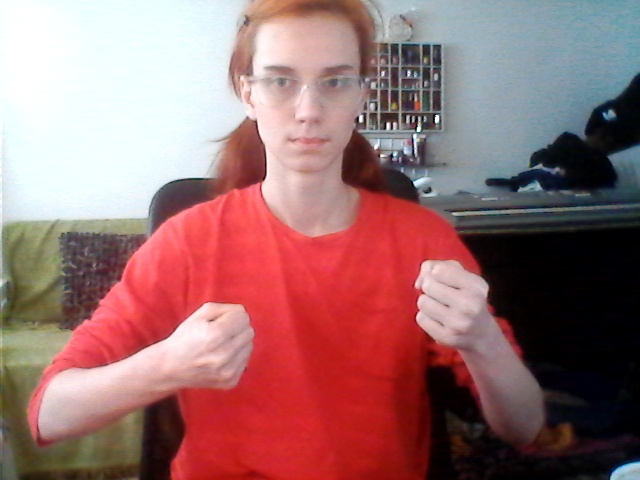auto: (181, 248, 494, 398)
